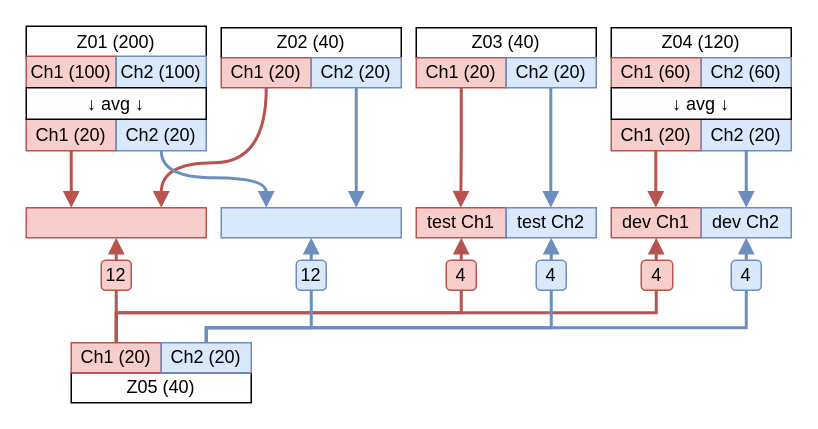
This 818x429 diagram has some shape labels left out. The centre of each missing label's shape, as x and y in pixels:
train Ch1: pixel 115 222
train Ch2: pixel 310 222
